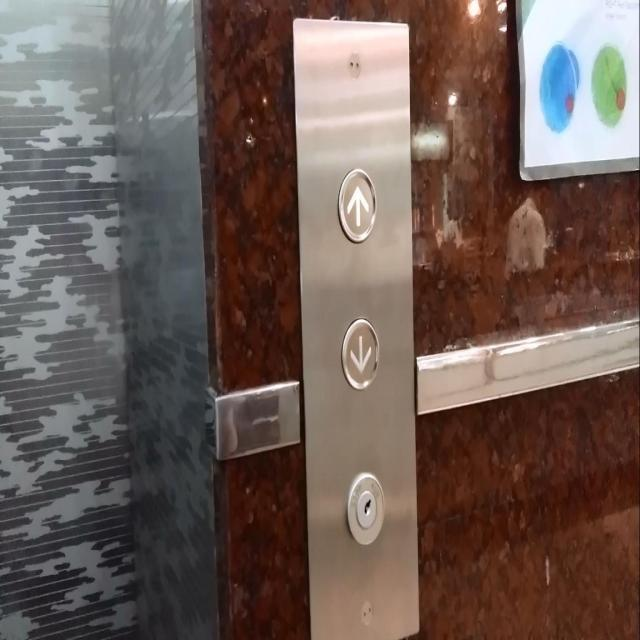down: (340, 313, 380, 389)
keyhole: (344, 469, 385, 546)
up: (336, 162, 378, 248)
